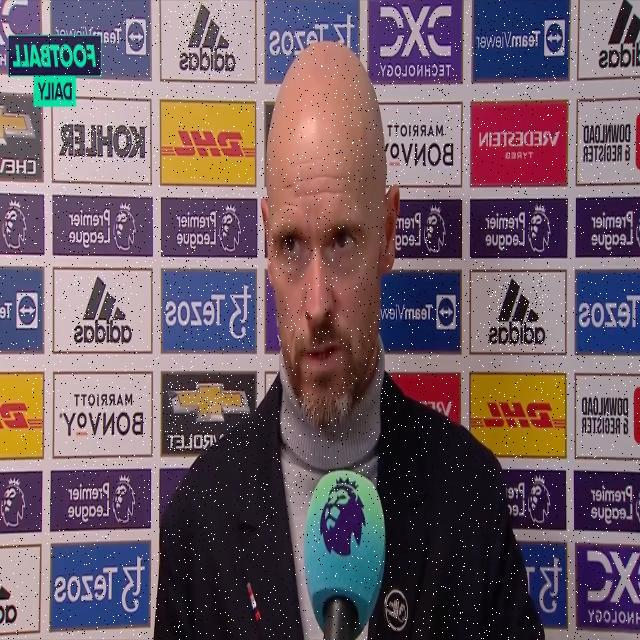Adidas: (73, 274, 132, 346), (179, 0, 236, 74), (487, 276, 546, 346)
Chevrolet: (166, 380, 251, 451)
Kohler: (57, 122, 147, 162)
TeamViewer: (475, 20, 564, 57), (54, 19, 146, 54)
